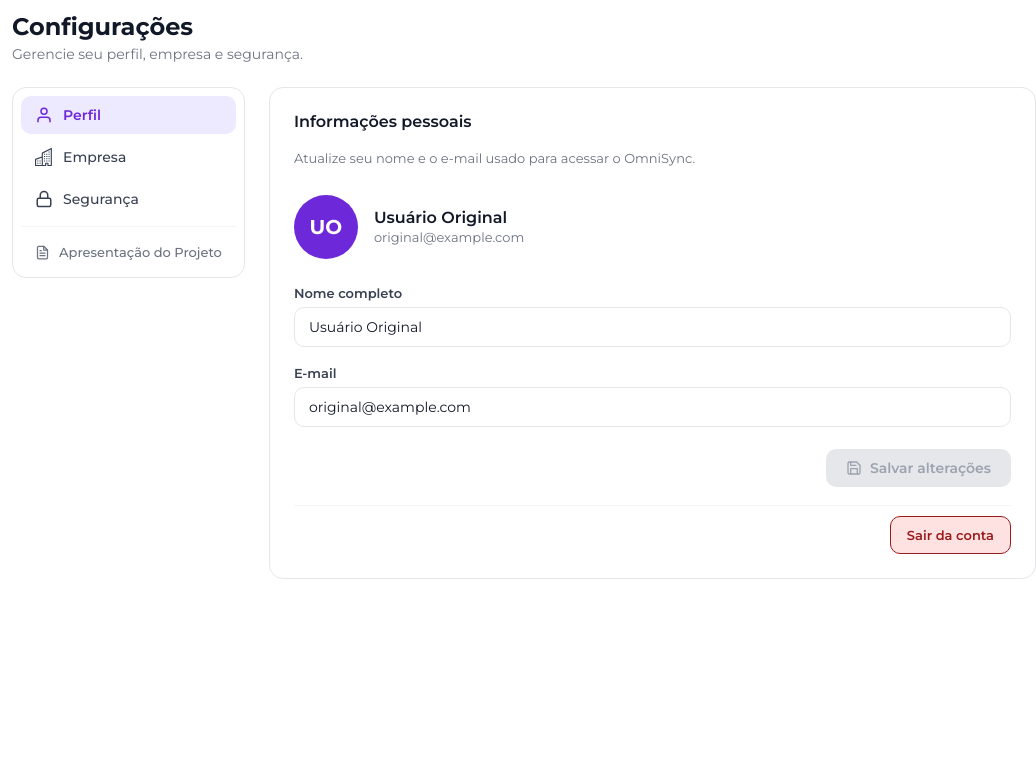
Test: SettingsScreen › shows company data as read-only without SETTINGS_MANAGE
Click the button "Empresa" at coordinates (128, 157), box [21,138,236,176]
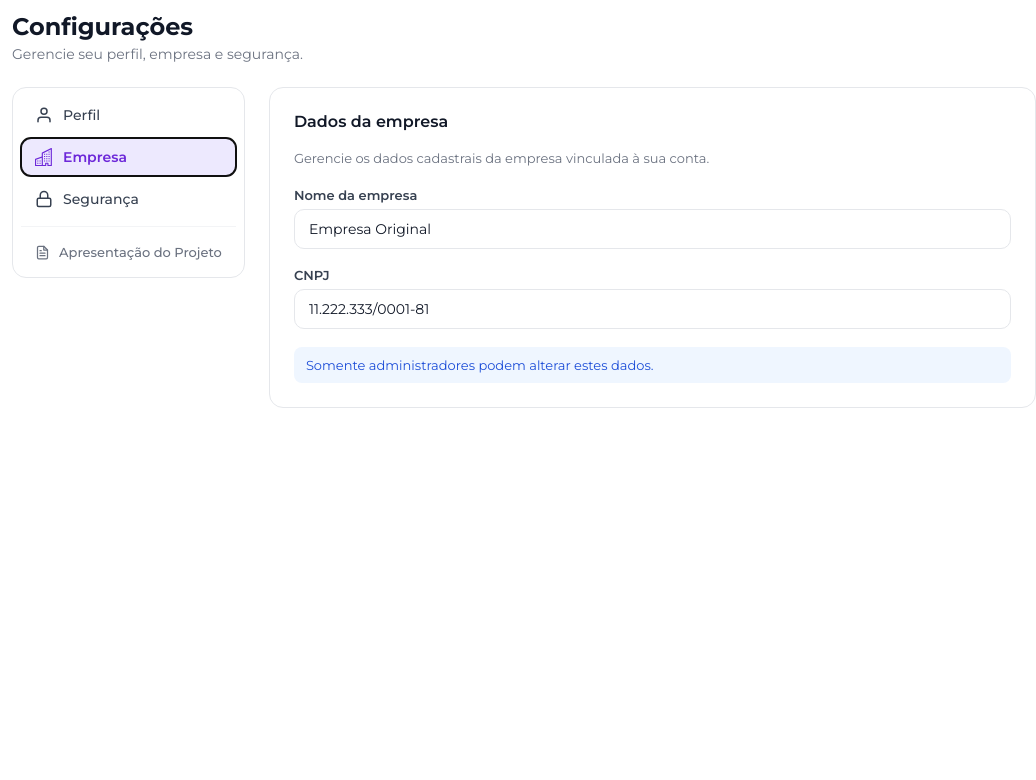
Result: the field showing "Empresa Original" is disabled at [294,208,1011,248]
Result: the field showing "11.222.333/0001-81" is disabled at [294,288,1011,328]
Result: the text "Somente administradores podem alterar estes dados." is shown at [294,346,1011,382]
